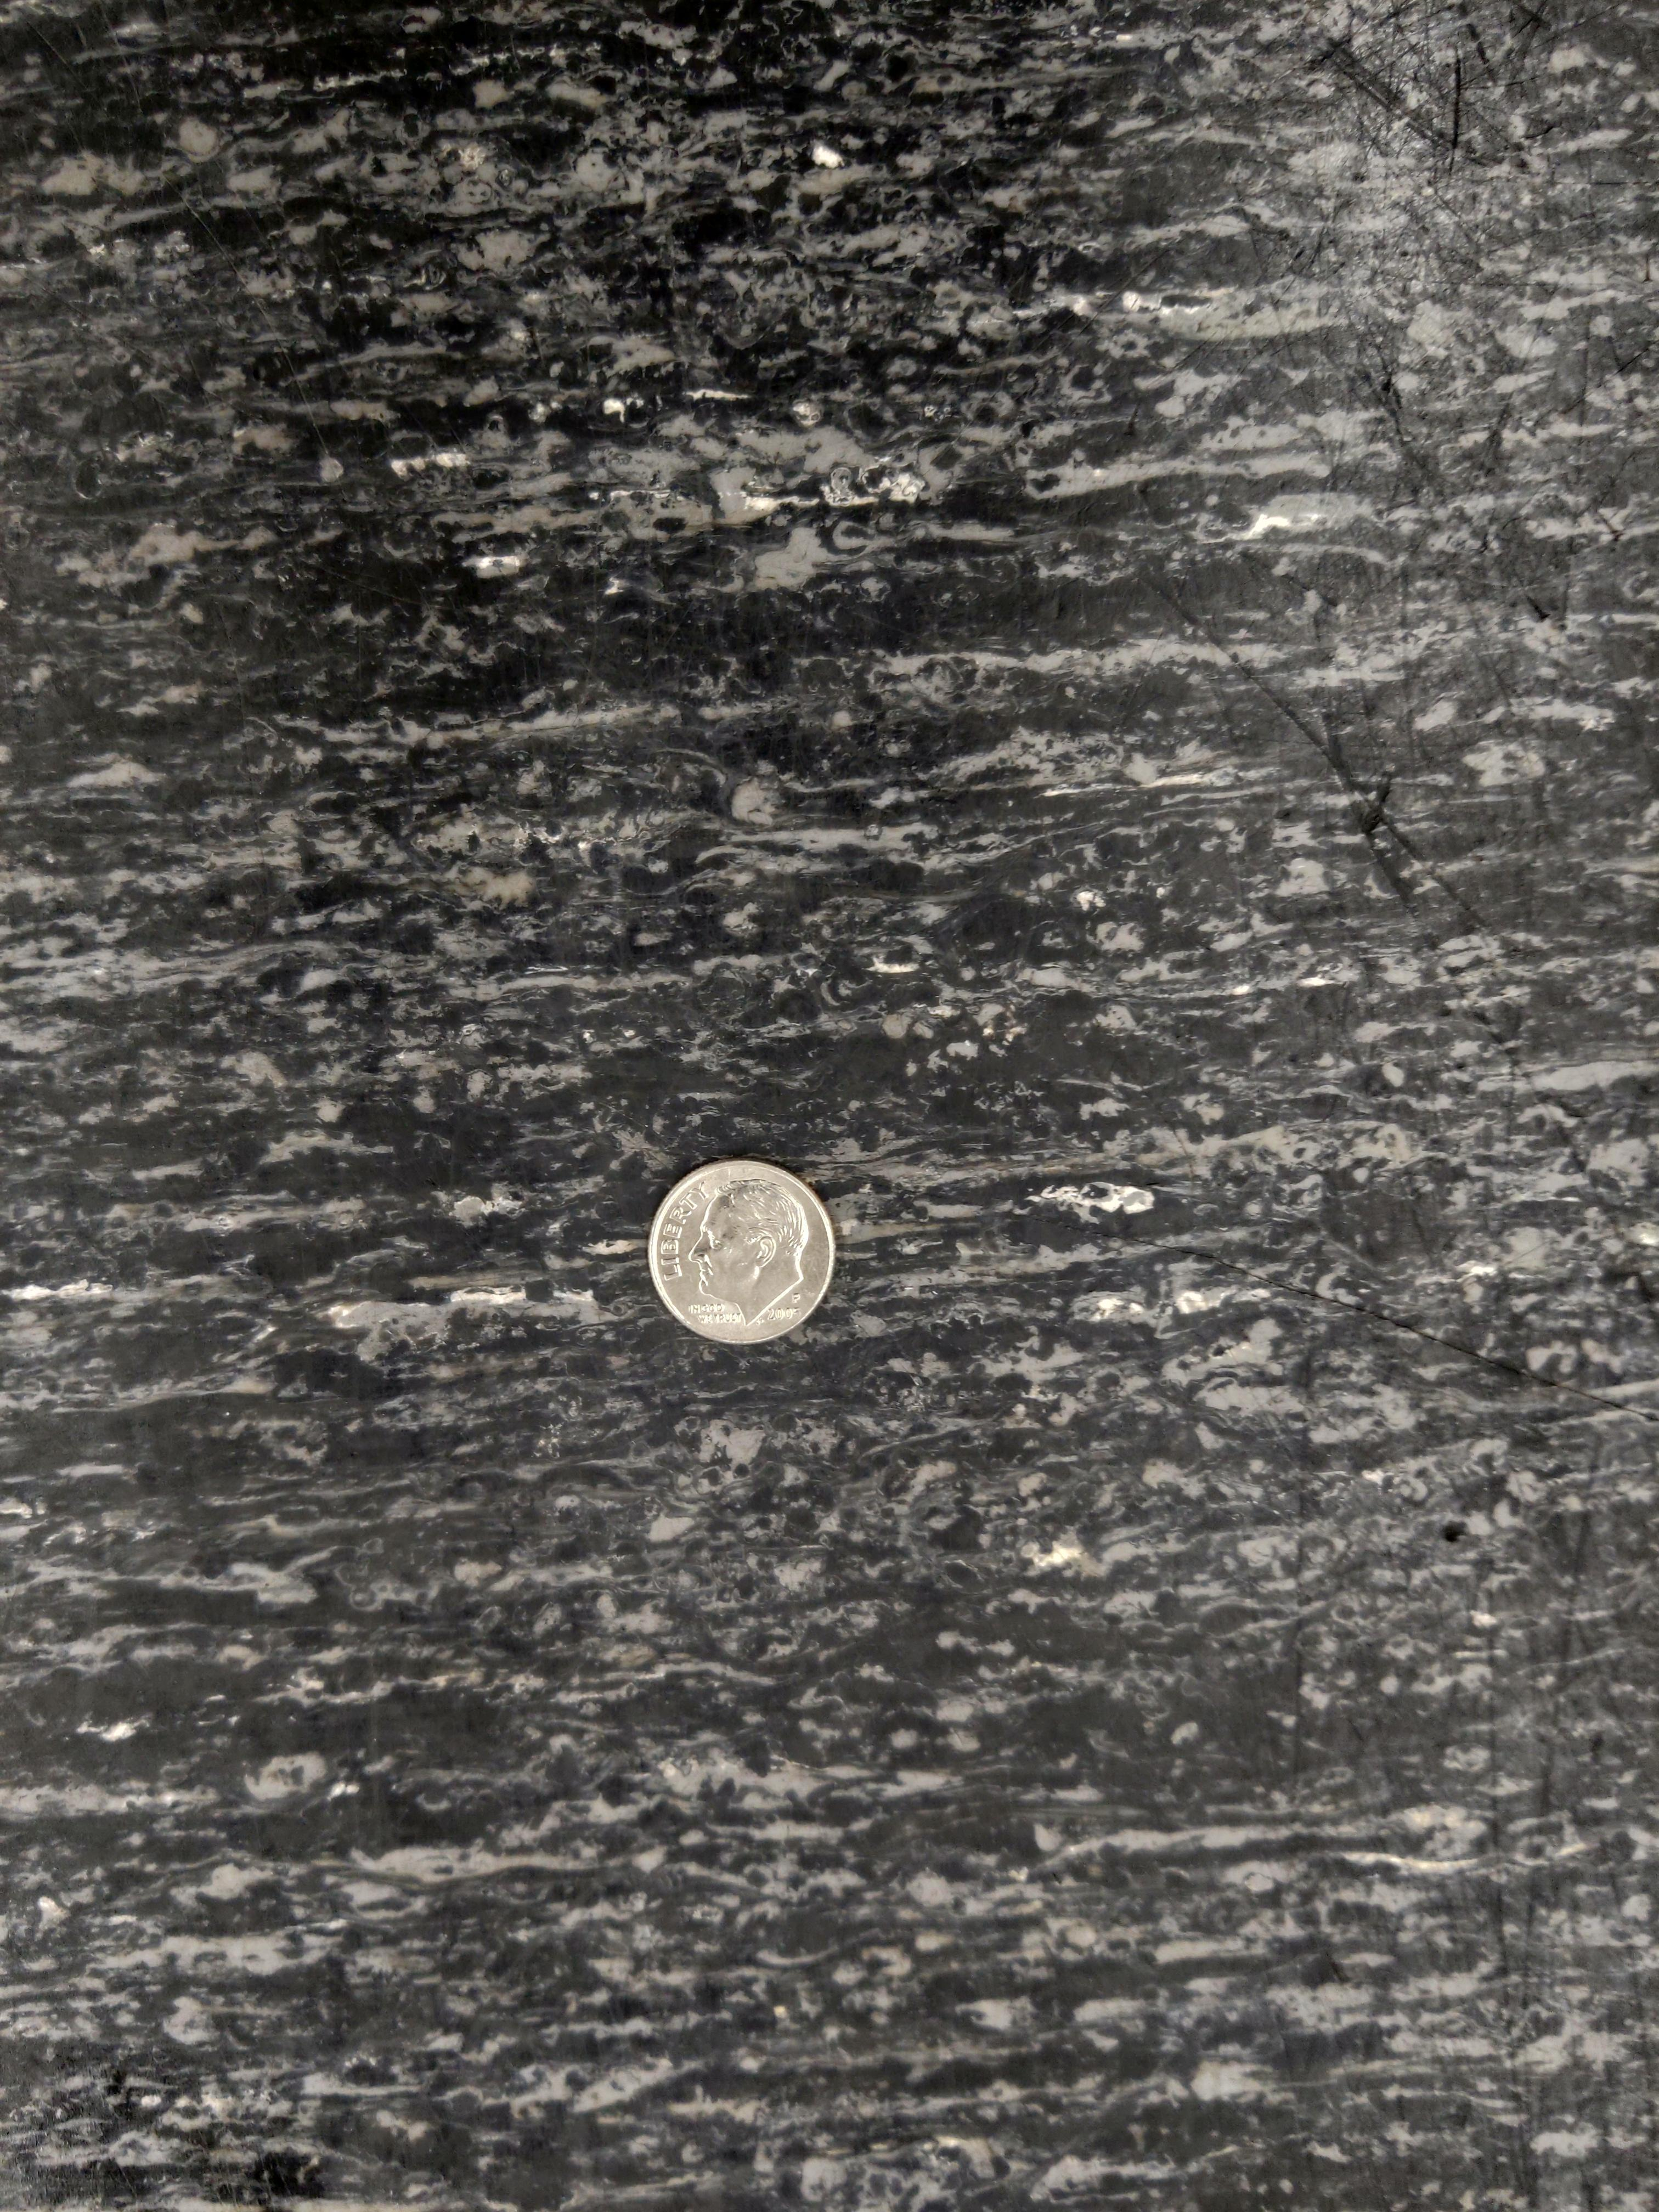Dime: (645, 1160, 835, 1348)
